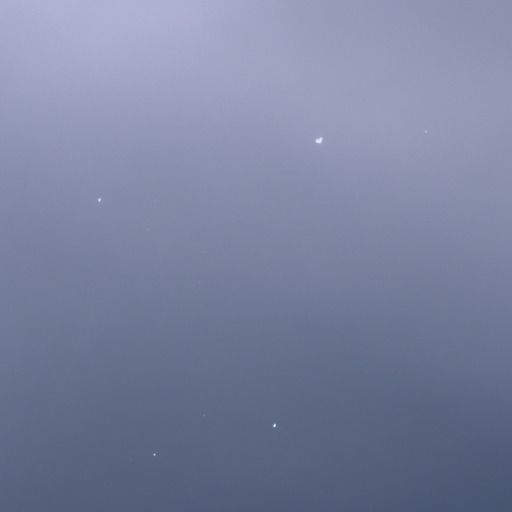Iceberg: (316, 137, 322, 143), (273, 423, 275, 427), (98, 198, 100, 201), (203, 414, 205, 416), (153, 453, 155, 455), (425, 131, 426, 132)
